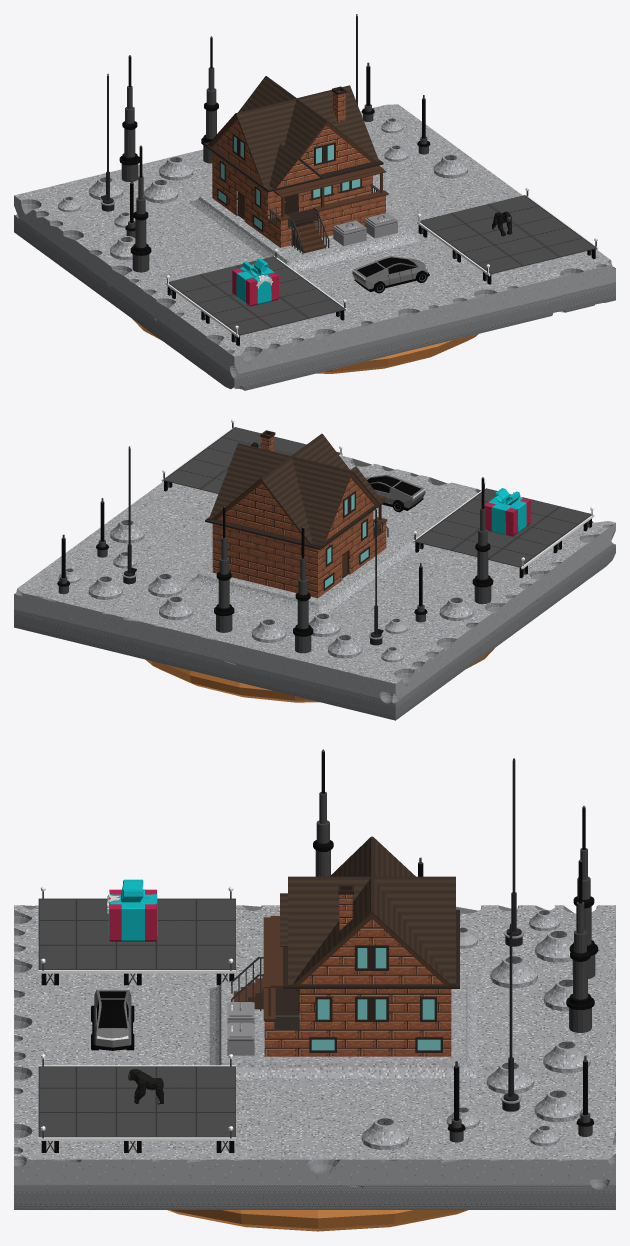
3 renders of one model, top to bottom at view 1: azimuth 30°, elevation 25°; view 2: azimuth 150°, elevation 25°; view 3: azimuth 270°, elevation 25°, orthographic. The views are drawn at different scales.
Visible parts, largest first — view 1: Cube.027, Cube.469, Cube.026, Cube.025, Cube.028, VEHICLES_CYBERTRUCK, OBJRANDOM_GIANT_PRESENT, UNDERGROUND_PIZZA, Cylinder.021, Cylinder.020, Cylinder.017, Cube.029 (+5 smaller); view 2: Cube.027, Cube.469, Cube.025, Cube.028, Cube.026, UNDERGROUND_PIZZA, OBJRANDOM_GIANT_PRESENT, VEHICLES_CYBERTRUCK, Cylinder.021, Cylinder.020, Cylinder.017, Cylinder.030 (+9 smaller); view 3: Cube.027, Cube.469, Cube.026, Cube.025, Cube.028, UNDERGROUND_PIZZA, OBJRANDOM_GIANT_PRESENT, VEHICLES_CYBERTRUCK, Cylinder.017, Cylinder.020, Cylinder.021, Cylinder.031 (+11 smaller).
Boxes of the visible parts, x1,y1,x2,y2 form: Cube.027: [14, 104, 615, 390]; Cube.469: [203, 76, 388, 254]; Cube.026: [417, 187, 598, 284]; Cube.025: [165, 249, 347, 345]; Cube.028: [190, 193, 420, 271]; VEHICLES_CYBERTRUCK: [352, 256, 429, 293]; OBJRANDOM_GIANT_PRESENT: [232, 258, 278, 306]; UNDERGROUND_PIZZA: [132, 319, 478, 373]; Cylinder.021: [130, 145, 151, 272]; Cylinder.020: [119, 55, 139, 181]; Cylinder.017: [201, 36, 218, 163]; Cube.029: [333, 220, 366, 245]; Cube.027: [14, 456, 615, 720]; Cube.469: [205, 430, 388, 598]; Cube.025: [413, 481, 594, 577]; Cube.028: [188, 533, 415, 614]; Cube.026: [161, 419, 342, 493]; UNDERGROUND_PIZZA: [145, 648, 494, 702]; OBJRANDOM_GIANT_PRESENT: [484, 488, 530, 536]; VEHICLES_CYBERTRUCK: [365, 475, 425, 512]; Cylinder.021: [472, 477, 493, 604]; Cylinder.020: [293, 526, 313, 653]; Cylinder.017: [214, 505, 234, 632]; Cylinder.030: [148, 573, 182, 597]; Cube.027: [14, 905, 615, 1209]; Cube.469: [231, 836, 459, 1056]; Cube.026: [38, 1054, 235, 1152]; Cube.025: [38, 886, 235, 985]; Cube.028: [209, 981, 477, 1078]; UNDERGROUND_PIZZA: [167, 1210, 467, 1231]; OBJRANDOM_GIANT_PRESENT: [107, 879, 157, 941]; VEHICLES_CYBERTRUCK: [91, 989, 134, 1050]; Cylinder.017: [566, 859, 594, 1032]; Cylinder.020: [569, 806, 598, 978]; Cylinder.021: [313, 749, 333, 876]; Cylinder.031: [534, 1089, 582, 1122].
Bounding box in the file's own units: 4000 × 2011 × 4000.
Materials: 33 (5 with a texture image).
